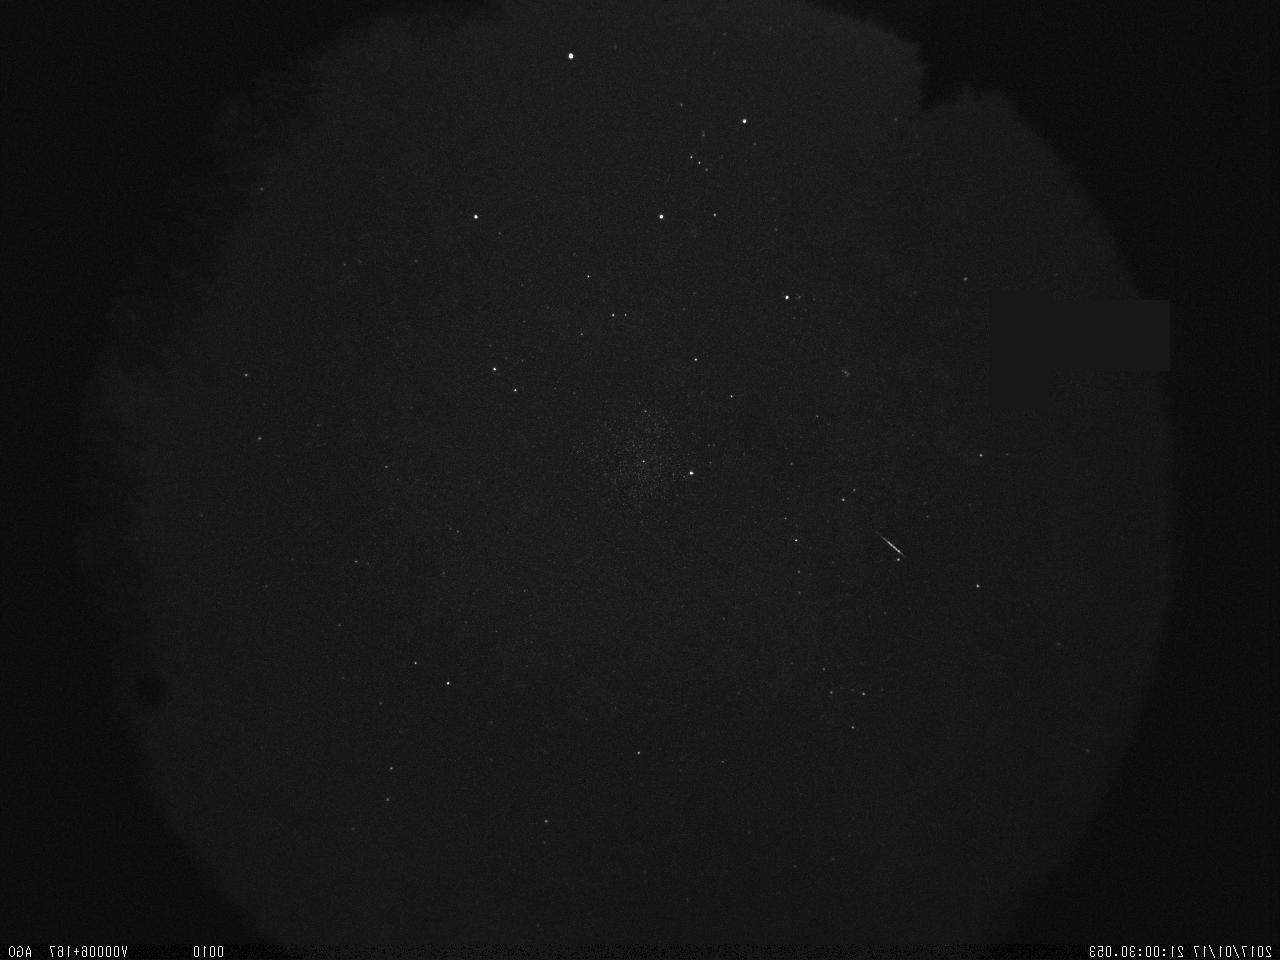meteor: (870, 526, 914, 558)
